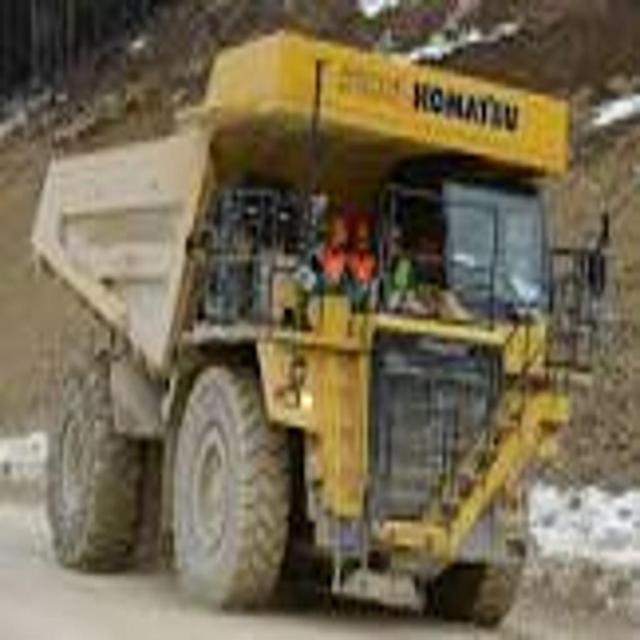dump_truck: (34, 30, 612, 632)
